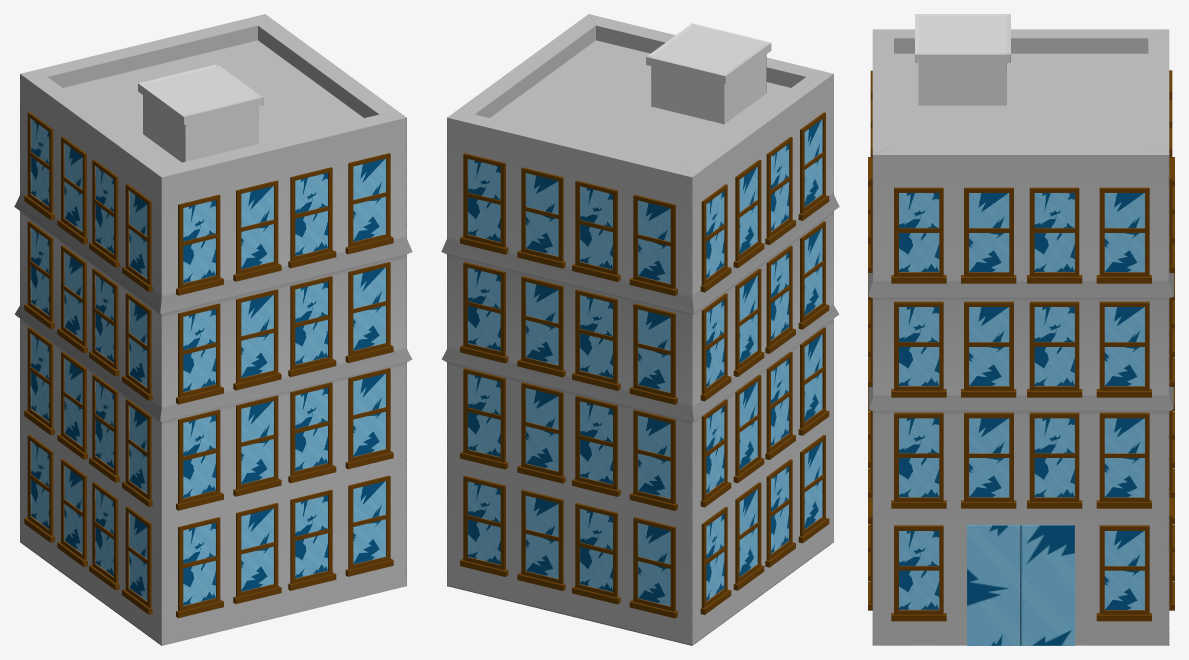
The model's file is edificiograndegris.fbx.
3 renders of one model, left to right at view 1: azimuth 30°, elevation 25°; view 2: azimuth 150°, elevation 25°; view 3: azimuth 270°, elevation 25°, orthographic. The views are drawn at different scales.
Visible parts, largest first — view 1: pCube21; view 2: pCube21; view 3: pCube21.
Part boxes in pixels (x1,y1,x2,y2): pCube21: (14,14,412,645); pCube21: (441,14,839,645); pCube21: (868,14,1174,645).
Bounding box in the file's own units: 13.07 × 24.72 × 13.02.
Materials: 1 (1 with a texture image).
